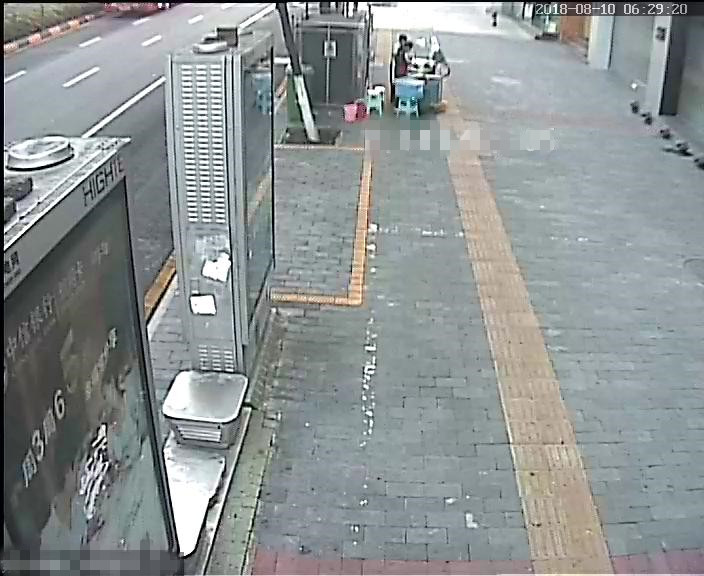vendors: (393, 36, 448, 121)
